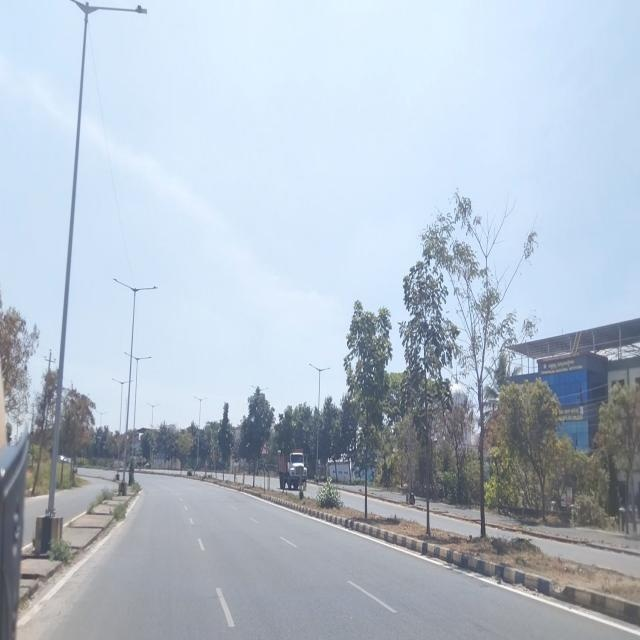bien_nguy_hiem: (260, 439, 270, 456)
